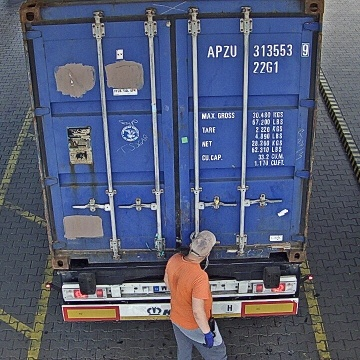serial_id: (207, 43, 309, 57)
